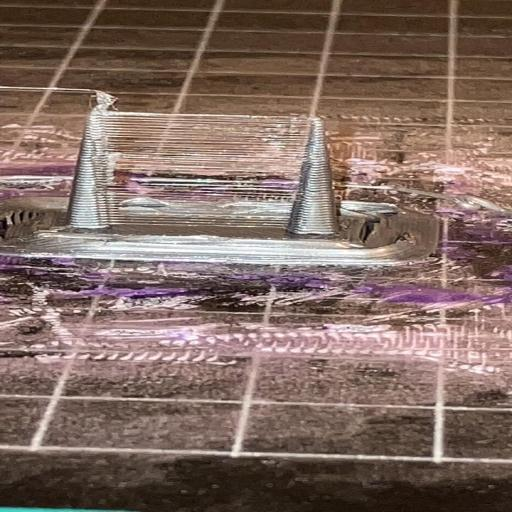stringing: (94, 104, 312, 218)
